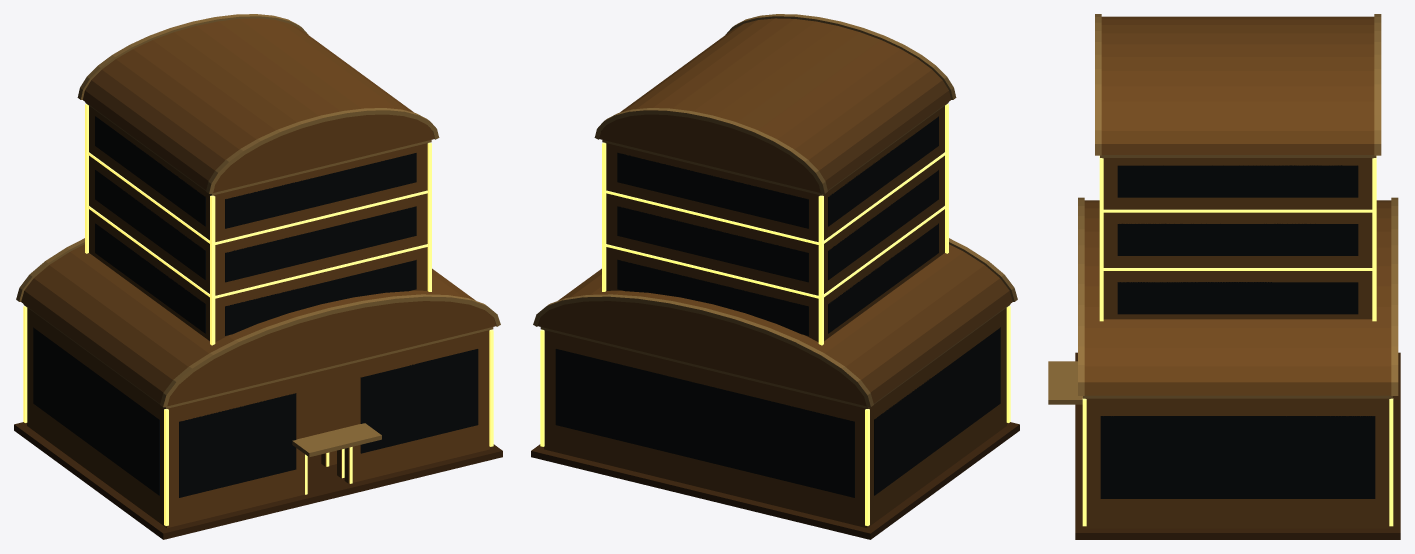
File: shaddai_realm_buildings_desert_v01.glb
The picture shows the model from 3 angles, left to right: view 1: azimuth 30°, elevation 25°; view 2: azimuth 150°, elevation 25°; view 3: azimuth 270°, elevation 25°; orthographic projection. The views are drawn at different scales.
Visible parts, largest first — view 1: shaddai_bld_desert_hall, shaddai_bld_desert_tower; view 2: shaddai_bld_desert_hall, shaddai_bld_desert_tower; view 3: shaddai_bld_desert_tower, shaddai_bld_desert_hall.
Part boxes in pixels (x1=…): shaddai_bld_desert_hall: x1=14, y1=238, x2=502, y2=539; shaddai_bld_desert_tower: x1=77, y1=14, x2=439, y2=478; shaddai_bld_desert_hall: x1=531, y1=238, x2=1019, y2=539; shaddai_bld_desert_tower: x1=594, y1=14, x2=956, y2=345; shaddai_bld_desert_tower: x1=1065, y1=14, x2=1381, y2=404; shaddai_bld_desert_hall: x1=1048, y1=197, x2=1400, y2=539.
Size of the model in its own units: 25.2 by 26.55 by 20.8.
